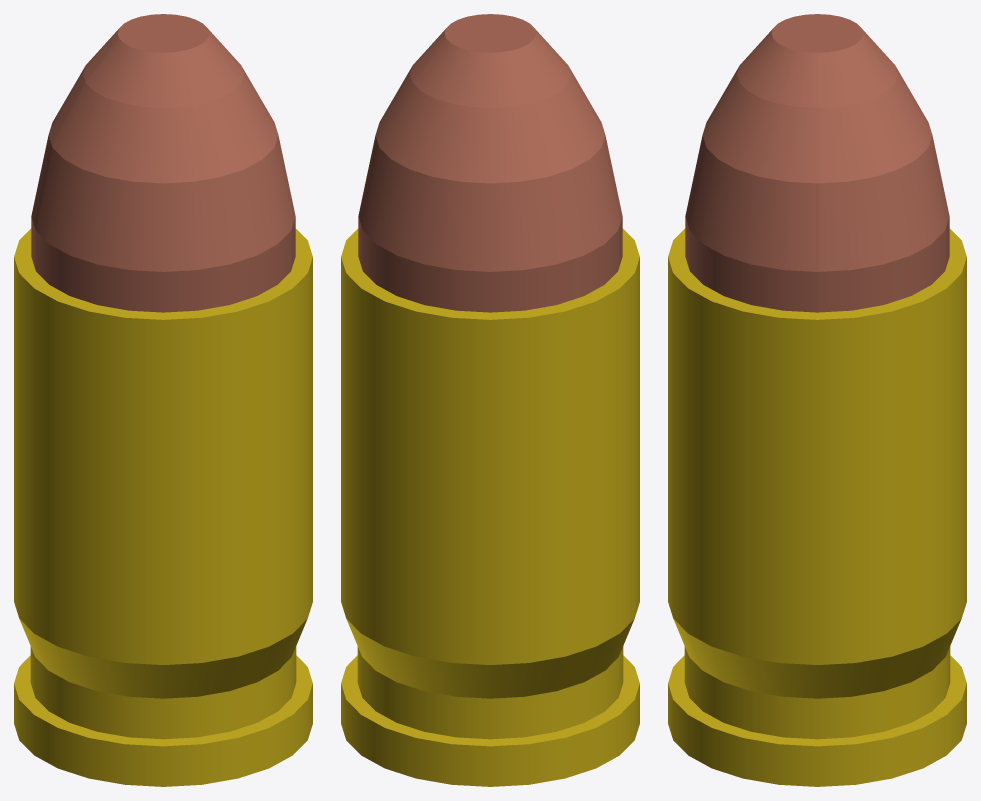
File: ammo_uzi.fbx
3 views of the same model, side by side, from view 1: azimuth 30°, elevation 25°; view 2: azimuth 150°, elevation 25°; view 3: azimuth 270°, elevation 25° (orthographic).
Visible parts, largest first — view 1: Mesh1_Group2 Group1 Model, Mesh2_Group3 Group1 Model; view 2: Mesh1_Group2 Group1 Model, Mesh2_Group3 Group1 Model; view 3: Mesh1_Group2 Group1 Model, Mesh2_Group3 Group1 Model.
Boxes of the visible parts, x1,y1,x2,y2 form: Mesh1_Group2 Group1 Model: (14, 228, 312, 786); Mesh2_Group3 Group1 Model: (31, 14, 295, 312); Mesh1_Group2 Group1 Model: (341, 228, 639, 786); Mesh2_Group3 Group1 Model: (358, 14, 622, 312); Mesh1_Group2 Group1 Model: (668, 228, 966, 786); Mesh2_Group3 Group1 Model: (685, 14, 949, 312).
Size of the model in its own units: 0.004 by 0.0102 by 0.004.
